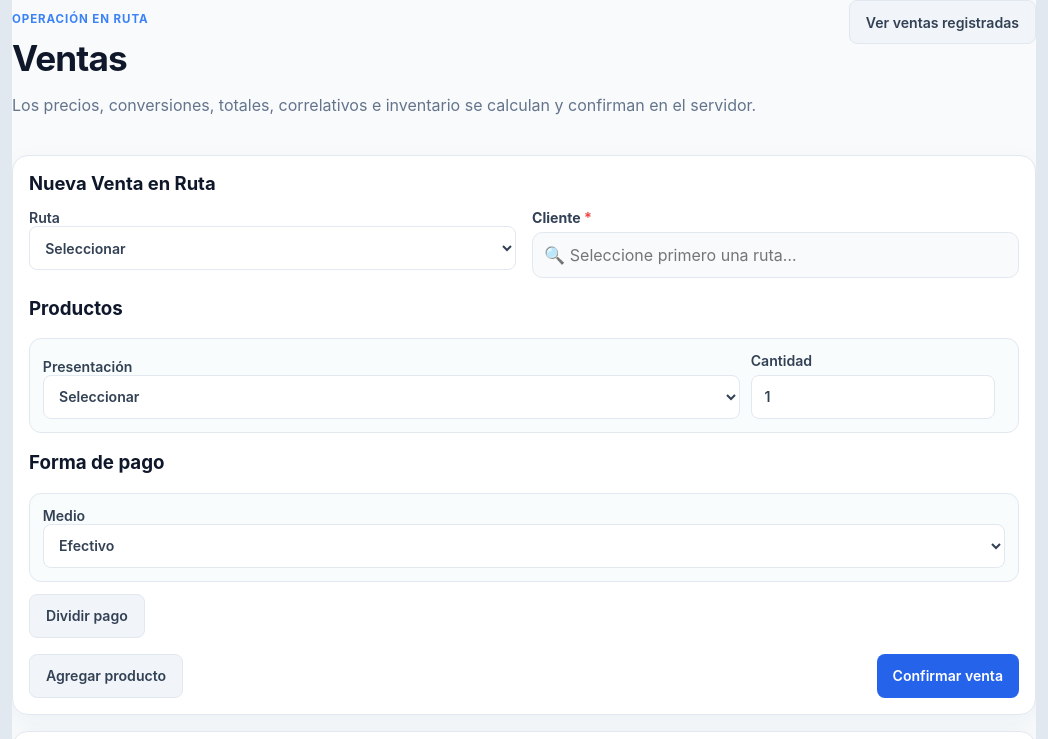
Scenario: SalesPage › no crea una venta cuando el usuario deniega la ubicación
The width and height of the screenshot is (1048, 739).
Select "R-01 · Ruta norte" in the dropdown labelled "Ruta" at (272, 248), box [29,226,516,270]
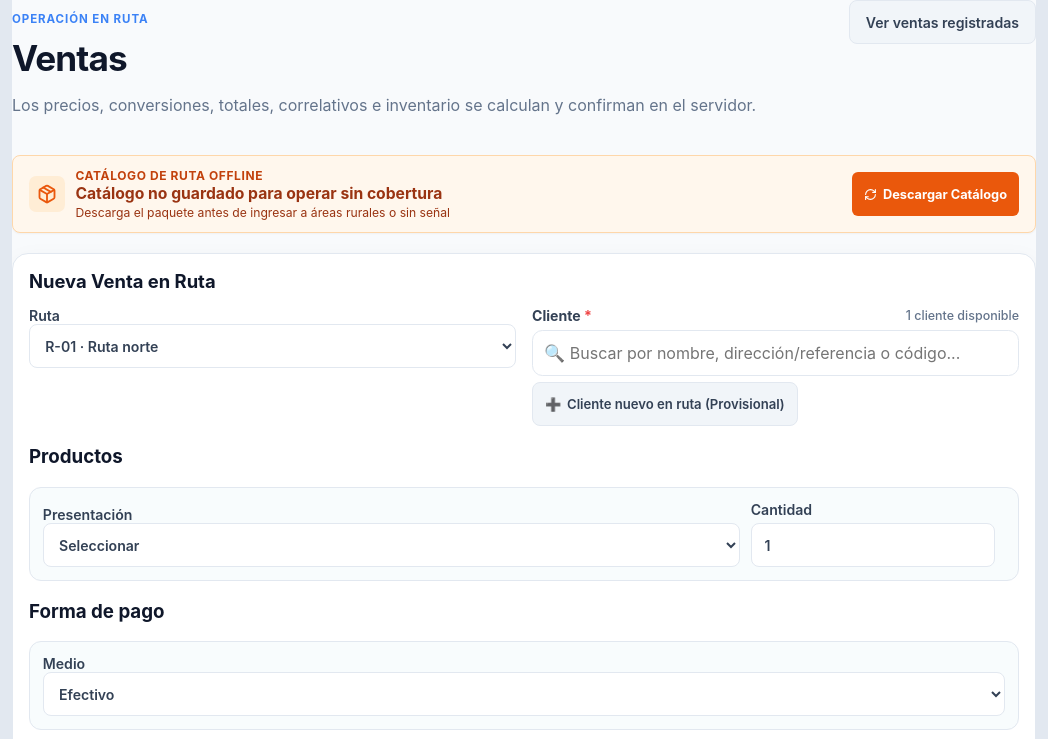
Select "⚡ C-01 · Tienda La Fuente (Provisional)" in the dropdown labelled "Cliente" at (556, 316), box [532,307,1019,324]
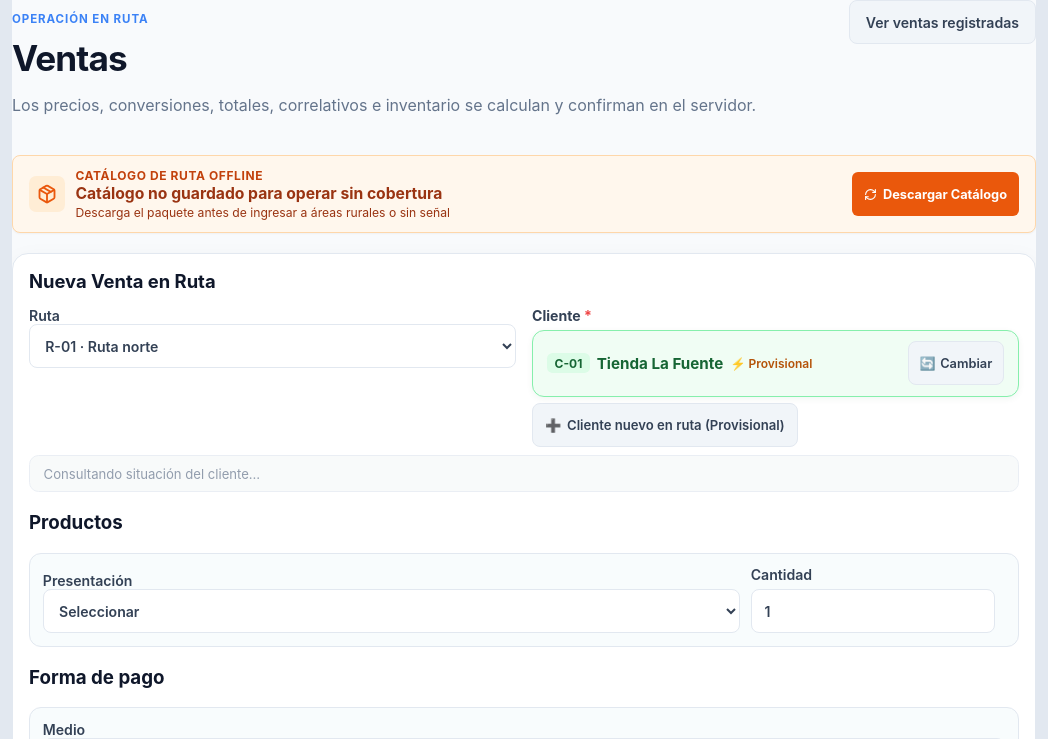
Select "AGUA · Agua pura · Botella 600 ml" in the dropdown labelled "Presentación" at (392, 611), box [43,589,740,633]
(page scrolled)
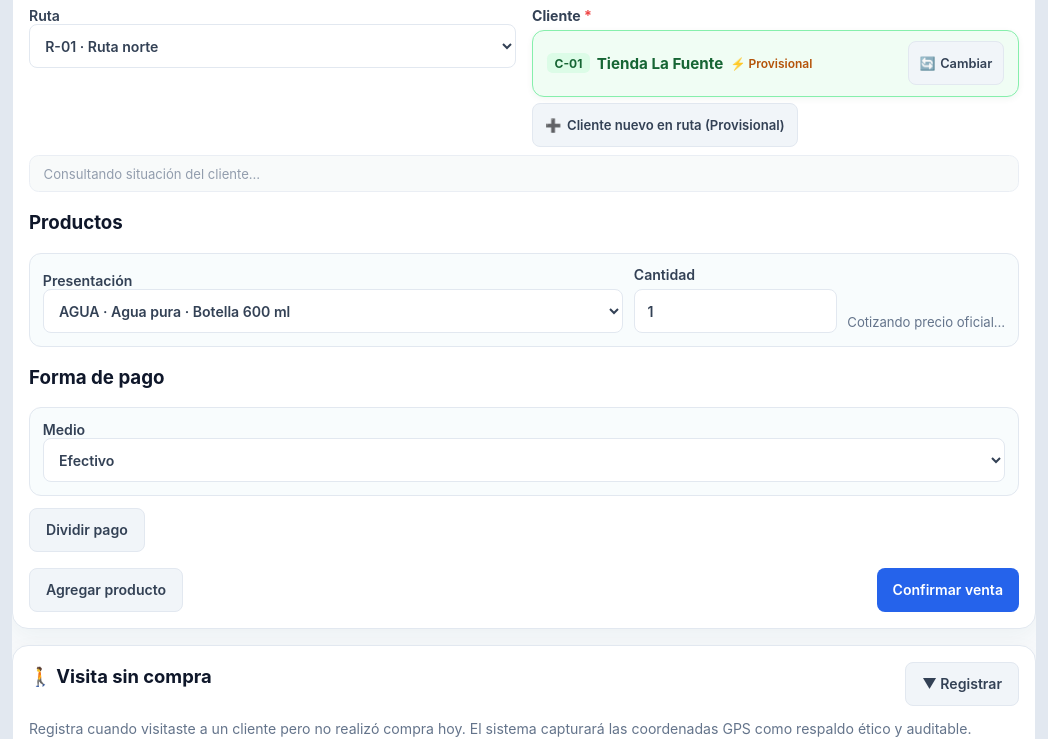
Click the button "Confirmar venta" at (948, 590), box [876,568,1019,612]
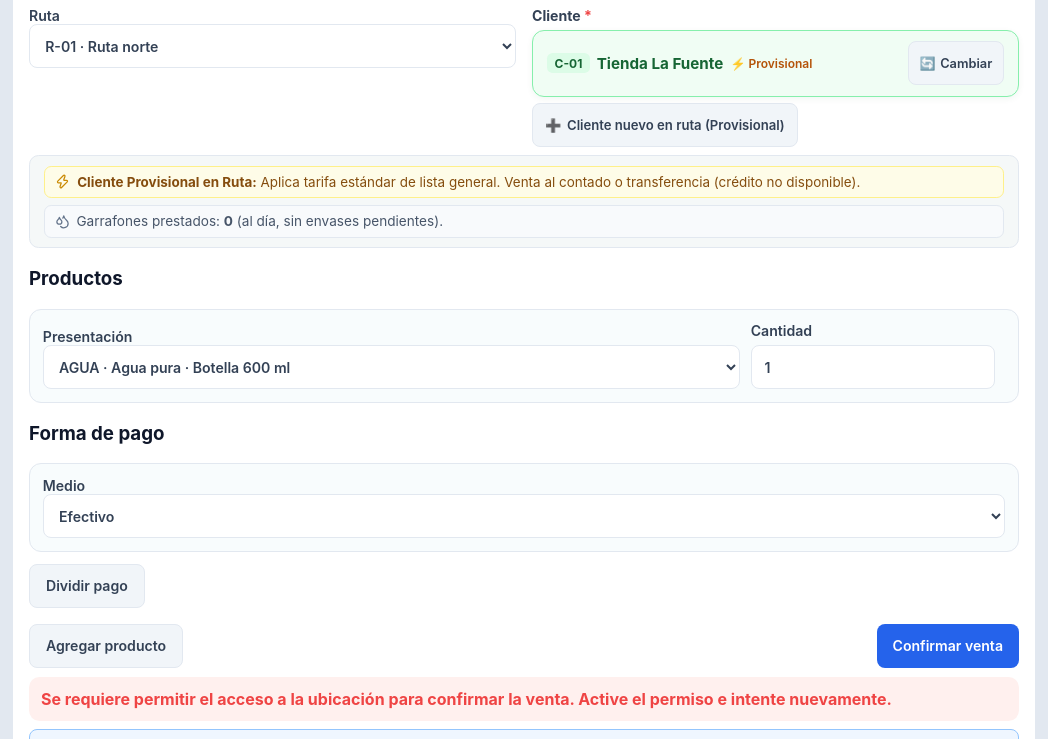
Expected: the text "Se requiere permitir el acceso a la ubicación" is shown, [41,689,892,709]
